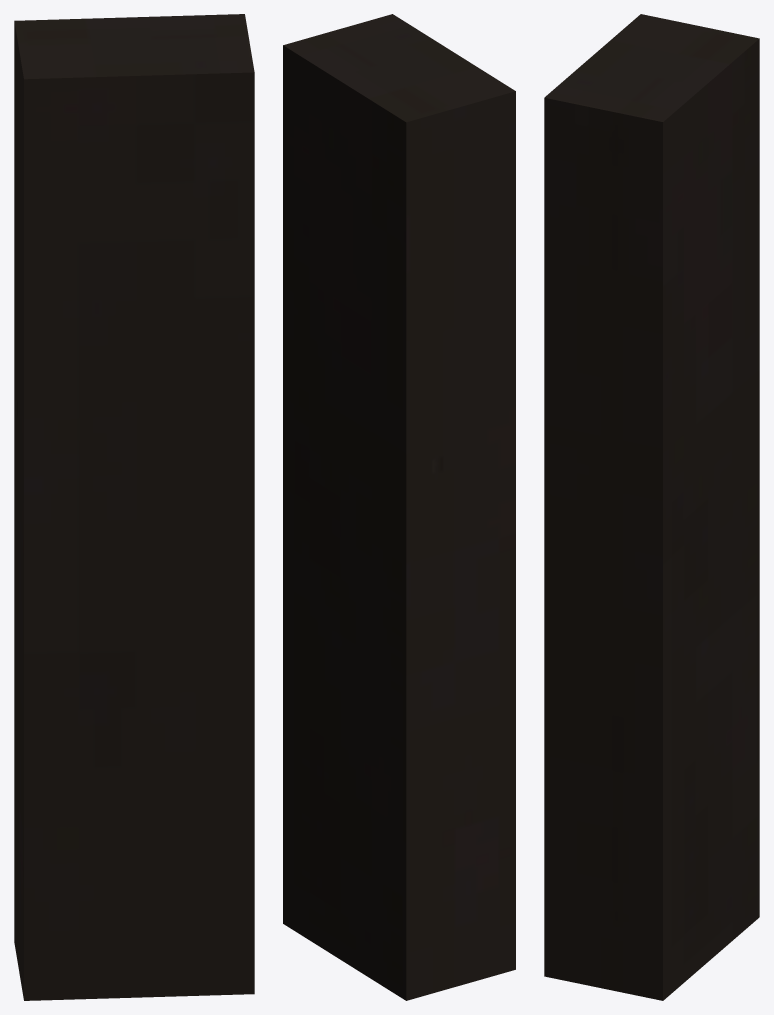
File: backrest__support_bar.glb
3 renders of one model, left to right at view 1: azimuth 30°, elevation 25°; view 2: azimuth 150°, elevation 25°; view 3: azimuth 270°, elevation 25°, orthographic. The views are drawn at different scales.
Parts seen in each view (by area): view 1: world; view 2: world; view 3: world.
Boxes of the visible parts, x1=… form: world: x1=14, y1=14, x2=254, y2=1000; world: x1=283, y1=14, x2=515, y2=1000; world: x1=544, y1=14, x2=759, y2=1000.
Size of the model in its own units: 0.0581 by 0.22 by 0.0489.
1 material, 1 textured.
